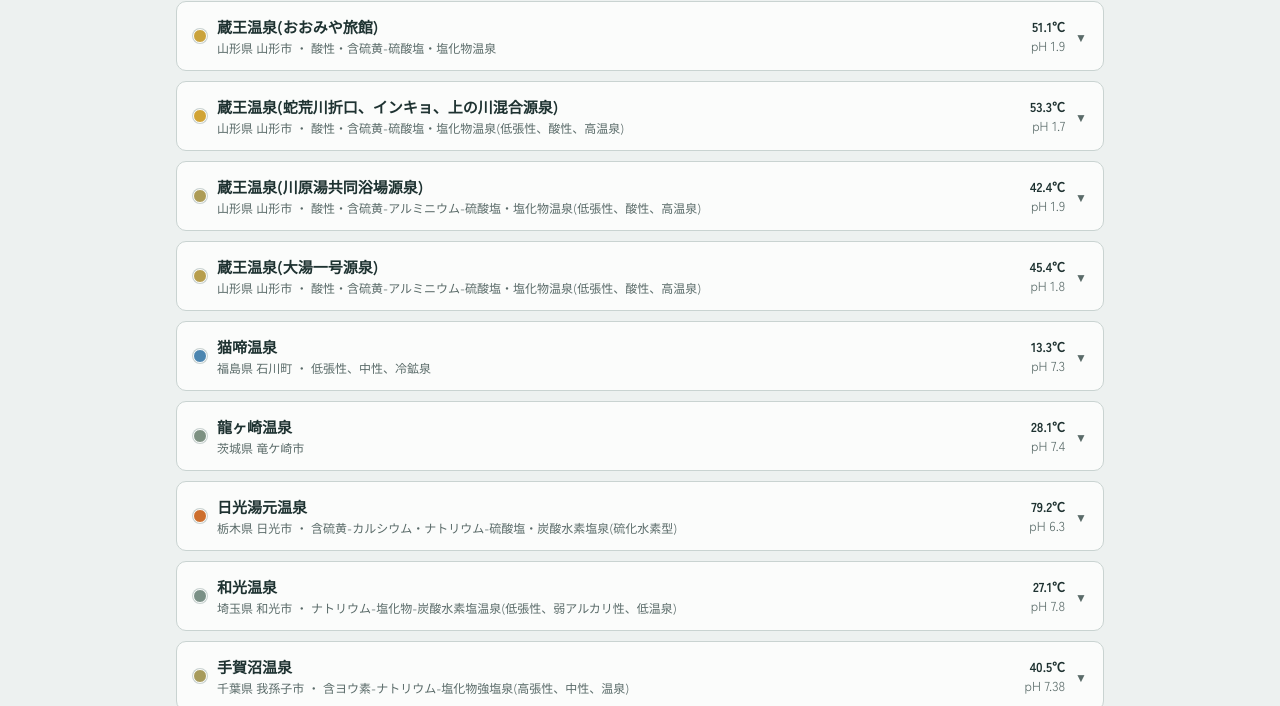
Scenario: ラドン › 一覧の詳細では3単位を併記する
This screenshot has width=1280, height=706.
(page scrolled)
Click the text "猫啼温泉".
click(247, 346)  # box [217,336,277,357]
(page scrolled)
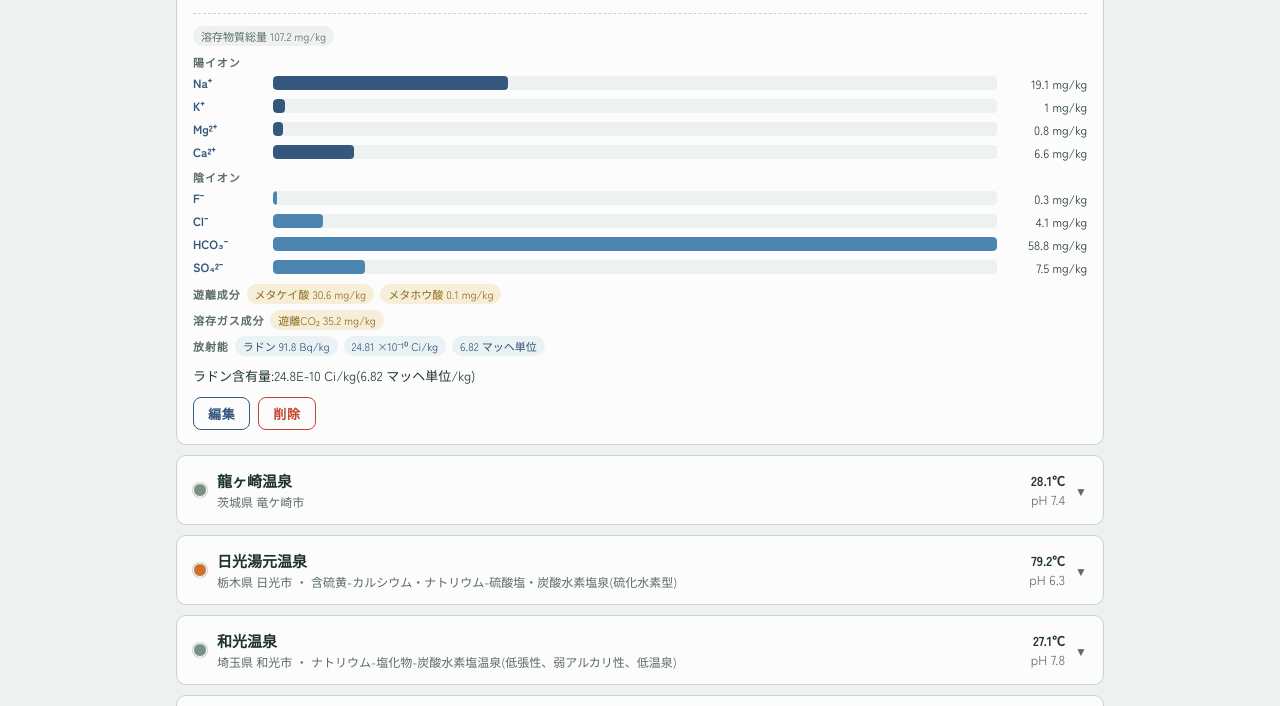
Check: the text "ラドン 91.8 Bq/kg" is shown, box [235,336,338,356]
Check: the text "24.81 ×10⁻¹⁰ Ci/kg" is shown, box [344,336,446,356]
Check: the text "6.82 マッヘ単位" is shown, box [452,336,545,356]
